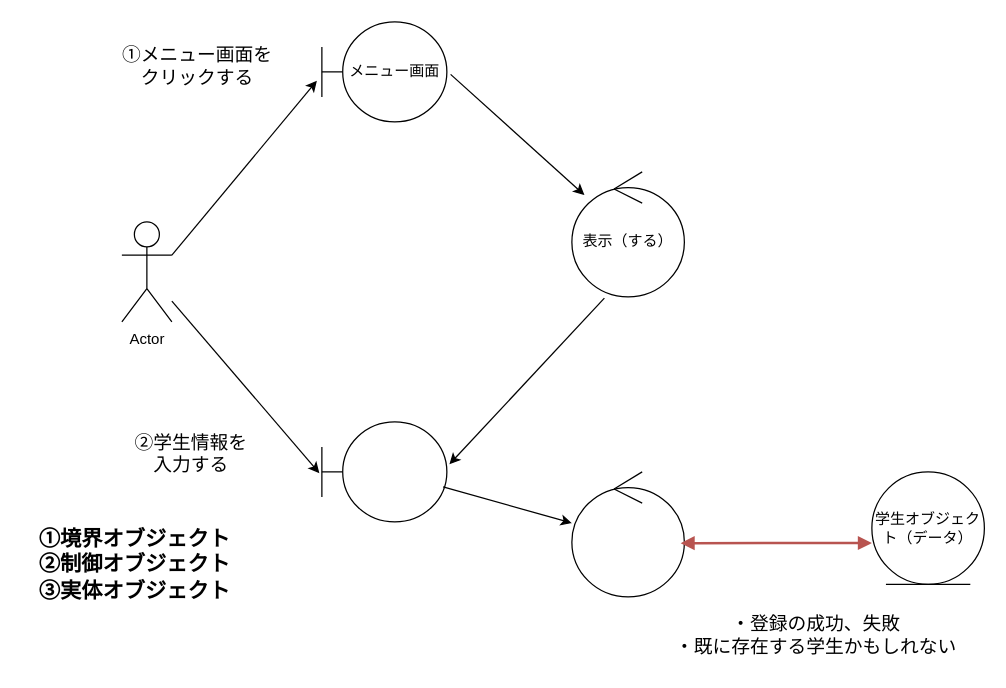
Some shapes in this 1006 by 688 pixel diagram are drawn without their labels. The shapes that lost their labels are listed below. From the top down, each one's box as (x1, y1, x2, y2) in pixels, then its label:
(321, 421, 447, 522): 学生登録画面
(571, 471, 684, 597): 学生情報登録
